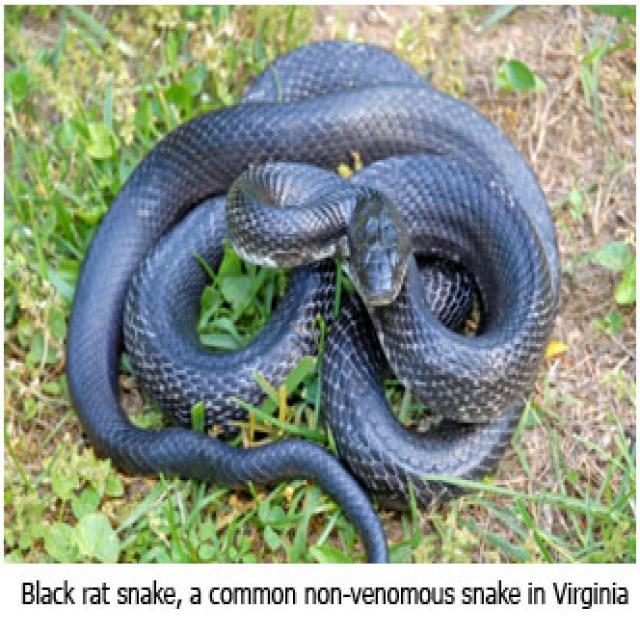Snake: (64, 36, 562, 562)
